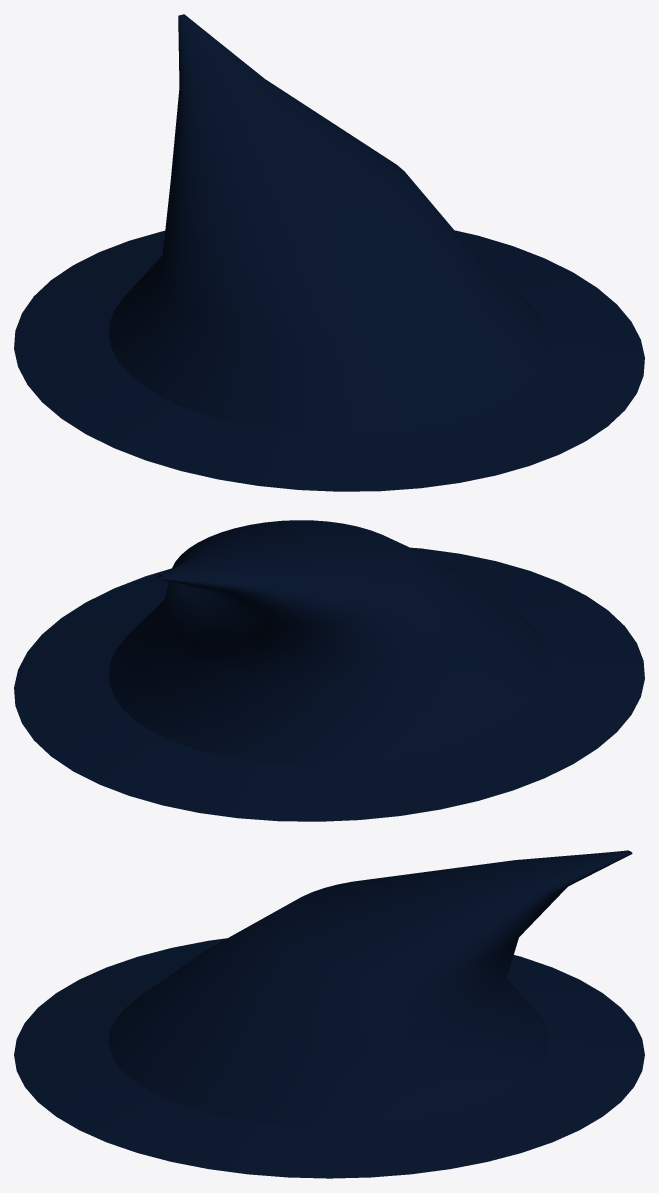
File: 魔法の帽子.fbx
3 views of the same model, one above another, from view 1: azimuth 30°, elevation 25°; view 2: azimuth 150°, elevation 25°; view 3: azimuth 270°, elevation 25° (orthographic). The views are drawn at different scales.
Parts seen in each view (by area): view 1: トーラス; view 2: トーラス; view 3: トーラス.
Boxes of the visible parts, x1,y1,x2,y2 form: トーラス: (14, 14, 644, 491); トーラス: (14, 520, 644, 821); トーラス: (14, 850, 644, 1178).
Size of the model in its own units: 0.3991 by 0.1675 by 0.4304.
